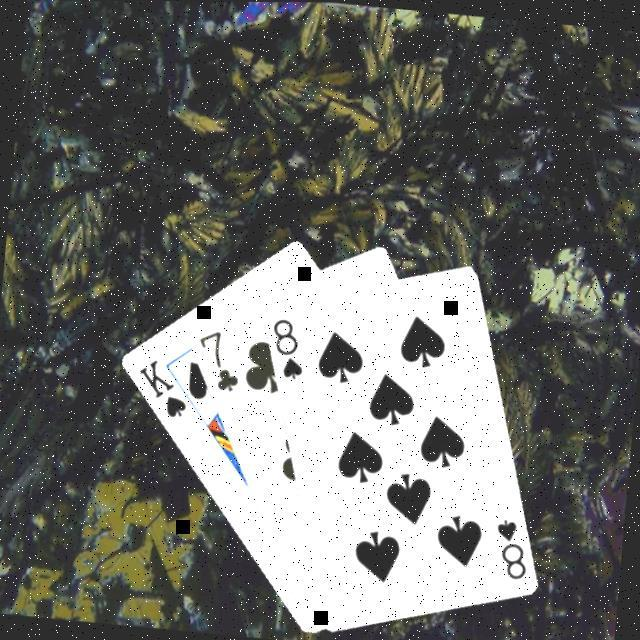7C: (190, 324, 245, 394)
8S: (263, 311, 309, 382), (487, 512, 533, 581)
KS: (129, 353, 192, 420)
